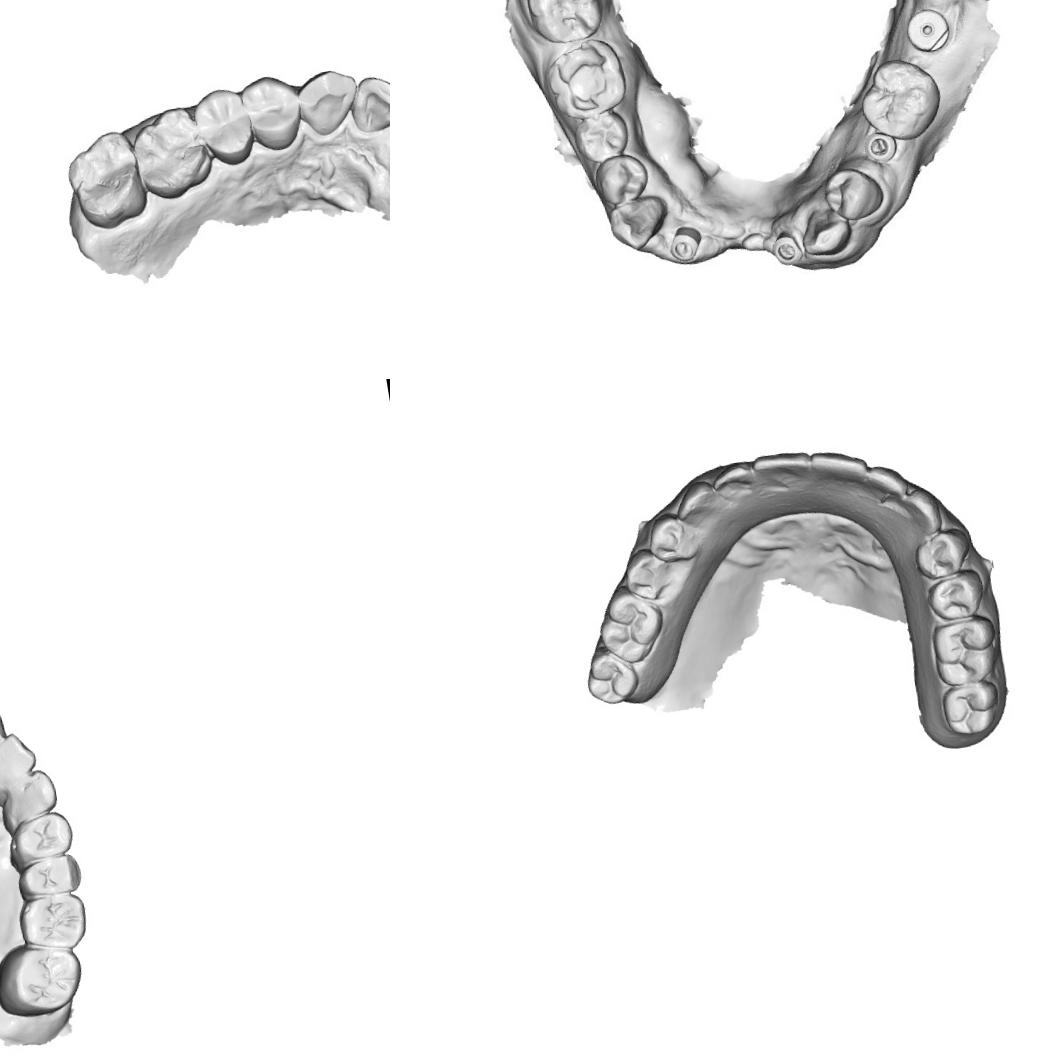canine: (292, 59, 363, 143), (0, 767, 60, 825), (668, 473, 722, 534), (898, 484, 947, 538)
implant: (902, 1, 956, 61), (667, 224, 706, 266), (863, 126, 898, 167), (767, 228, 802, 269)
incisor: (804, 442, 872, 503), (750, 444, 820, 503), (604, 191, 669, 249), (345, 70, 390, 138), (708, 454, 764, 506), (0, 729, 41, 797), (860, 458, 913, 508), (797, 204, 850, 252)
molar: (60, 128, 154, 236), (124, 100, 220, 205), (0, 935, 88, 1024), (926, 606, 1012, 694), (590, 578, 672, 670), (858, 58, 940, 144), (547, 39, 626, 121), (14, 889, 93, 958), (937, 676, 1009, 742), (579, 642, 644, 710), (592, 148, 654, 213), (526, 0, 608, 48), (576, 111, 626, 158)
premolar: (192, 82, 260, 174), (238, 68, 306, 157), (907, 524, 978, 586), (5, 808, 78, 868), (616, 543, 682, 608), (11, 846, 86, 902), (921, 565, 988, 625), (645, 504, 703, 570), (820, 165, 883, 224)
